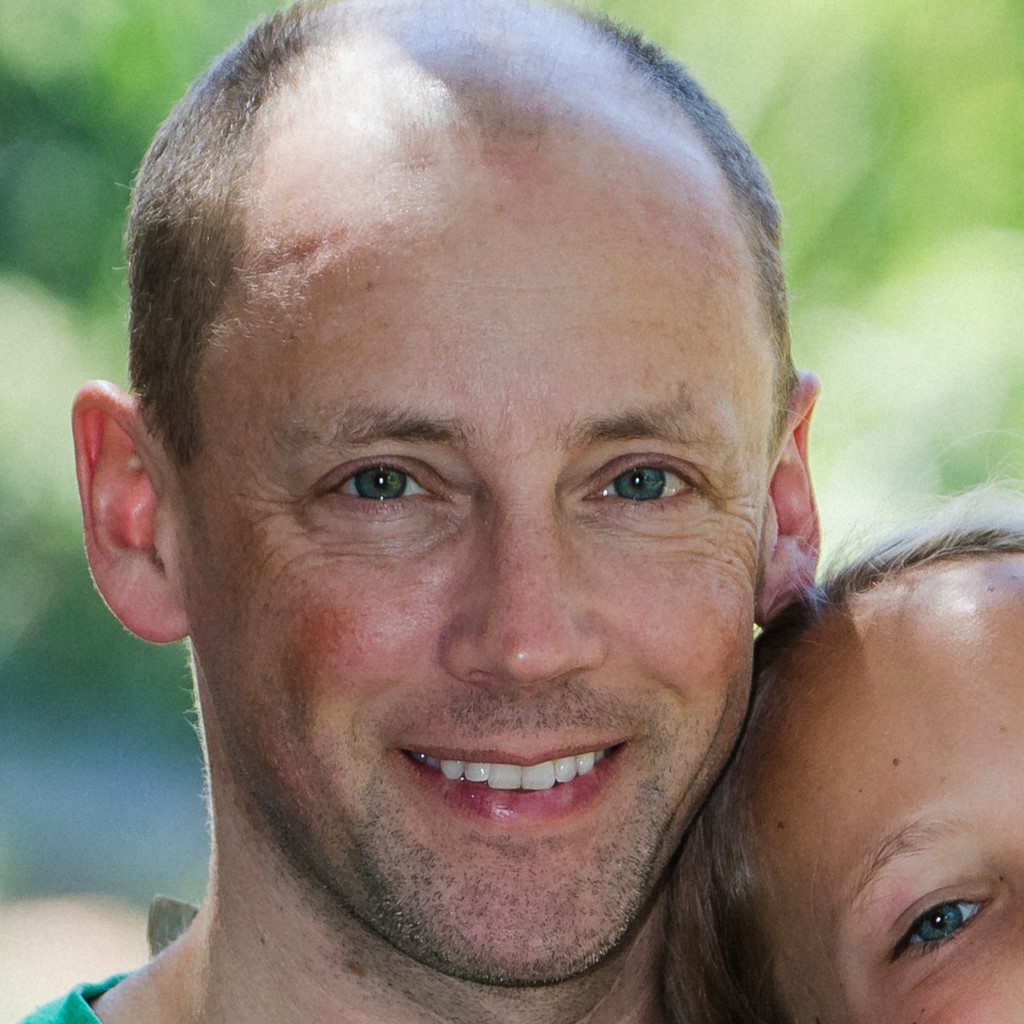sin_mascara: (144, 83, 776, 954)
